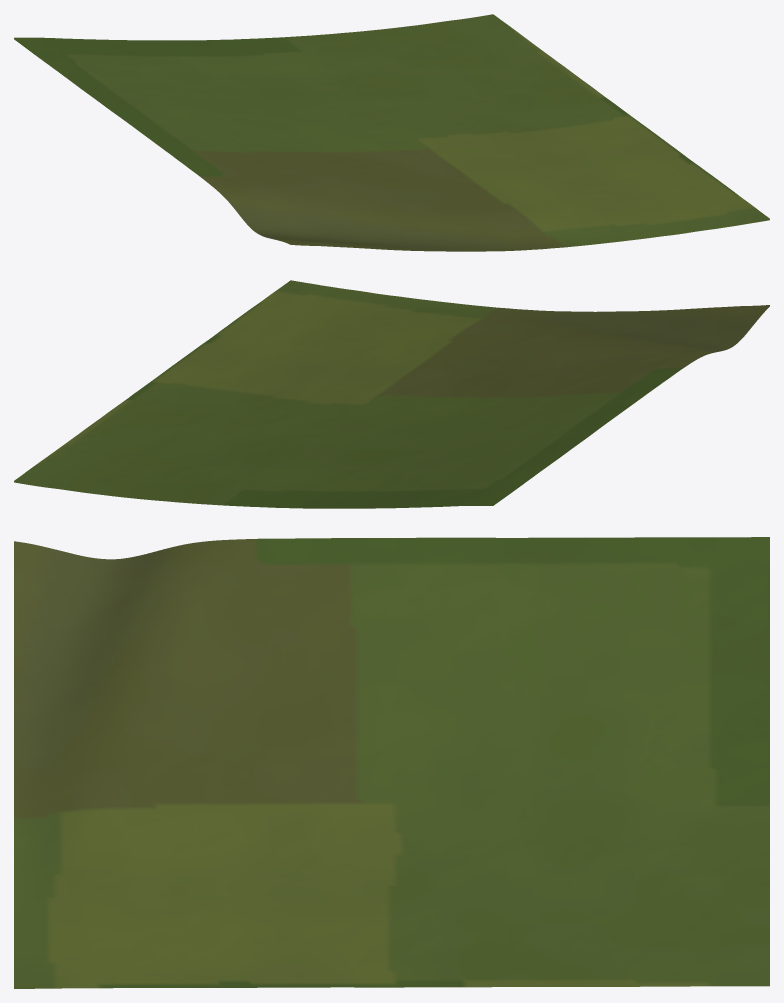
Rendered from land_n_00_05.glb.
The picture shows the model from 3 angles, top to bottom: view 1: azimuth 30°, elevation 25°; view 2: azimuth 150°, elevation 25°; view 3: azimuth 270°, elevation 25°; orthographic projection. The views are drawn at different scales.
Parts seen in each view (by area): view 1: land_n_00_05; view 2: land_n_00_05; view 3: land_n_00_05.
Boxes of the visible parts, bbox=[...] form: land_n_00_05: bbox=[14, 14, 769, 251]; land_n_00_05: bbox=[14, 280, 769, 508]; land_n_00_05: bbox=[14, 537, 769, 988].
Size of the model in its own units: 480 by 92.71 by 480.
